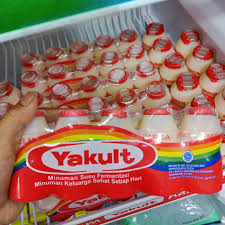Yakult (325ml): (17, 105, 221, 197)
